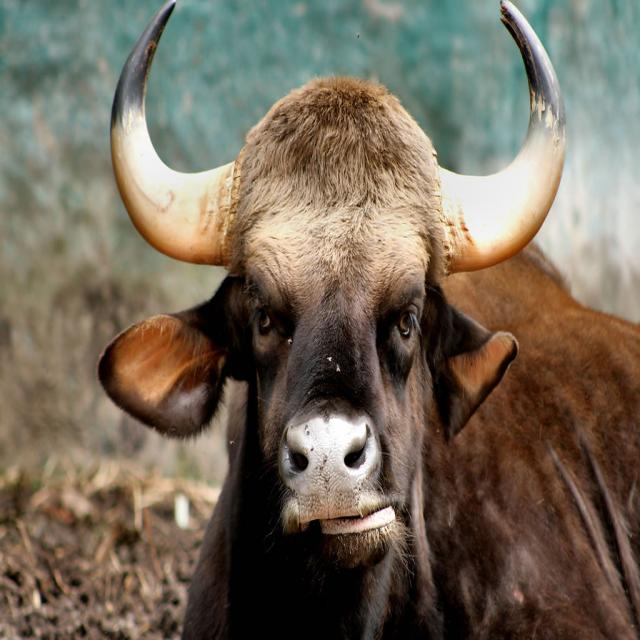Deer: (94, 0, 639, 639)
